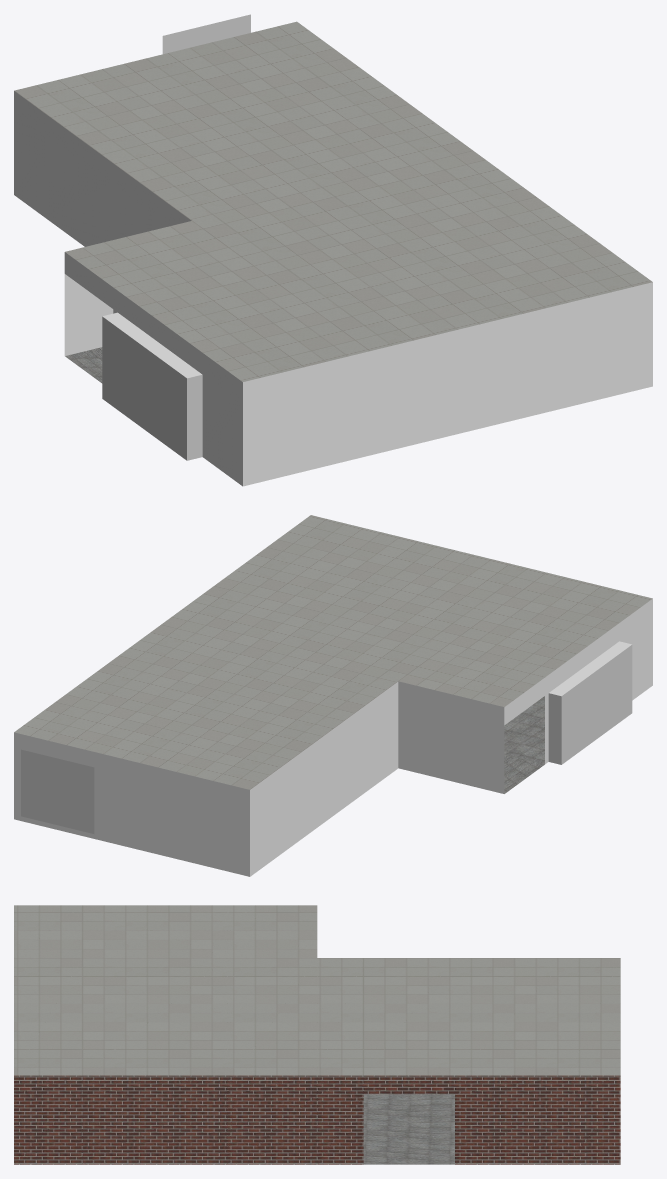
Rendered from AULACOMPLETAMENTECORREGIDA.fbx.
3 views of the same model, one above another, from view 1: azimuth 30°, elevation 25°; view 2: azimuth 150°, elevation 25°; view 3: azimuth 270°, elevation 25° (orthographic). The views are drawn at different scales.
Visible parts, largest first — view 1: Cube; view 2: Cube; view 3: Cube.
Boxes of the visible parts, x1,y1,x2,y2 form: Cube: [14, 14, 652, 486]; Cube: [14, 515, 652, 876]; Cube: [14, 905, 620, 1164].
Size of the model in its own units: 2549 by 597 by 3889.
